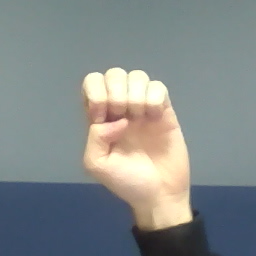E: (76, 65, 196, 199)
